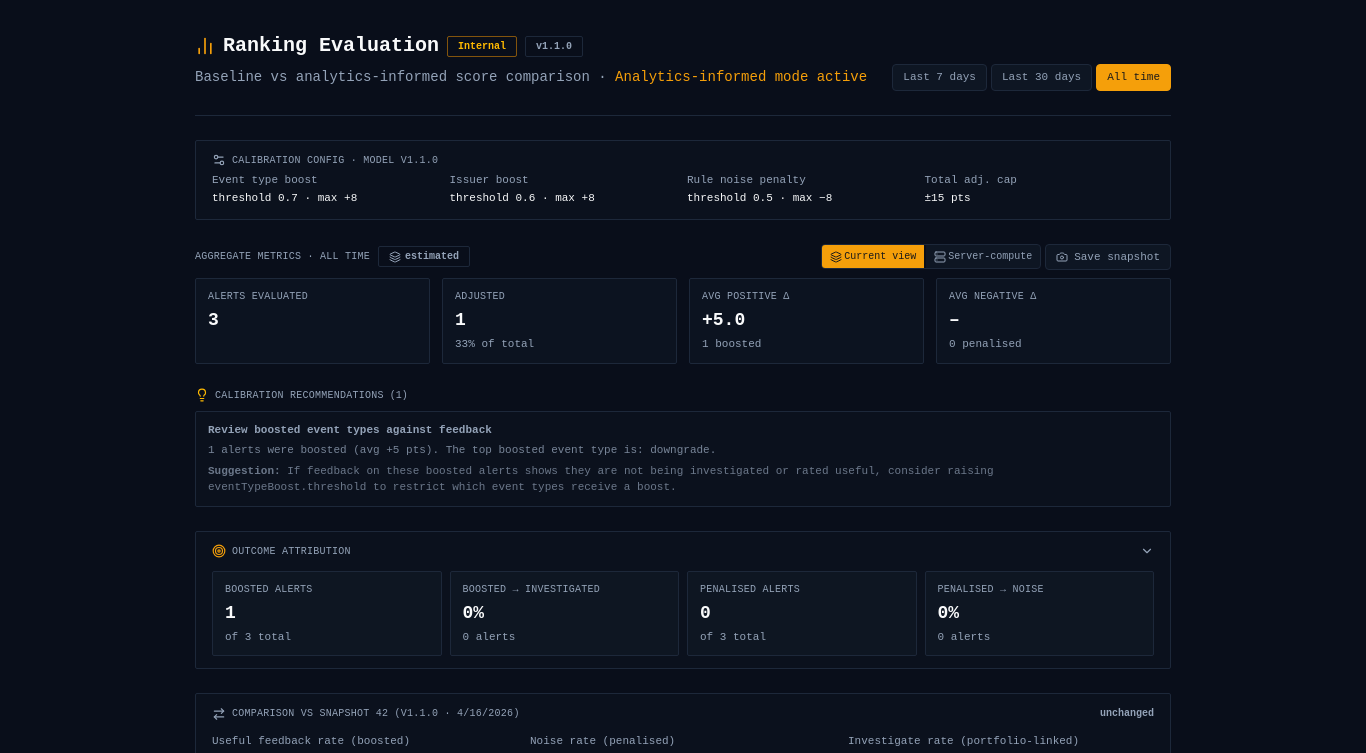
Test: RankingEvalPage – outcome attribution panel › expands attribution detail when expand button is clicked
This screenshot has width=1366, height=753.
Click the button with test id "attribution-expand-button": point(1147, 551) [1140,544,1154,558]
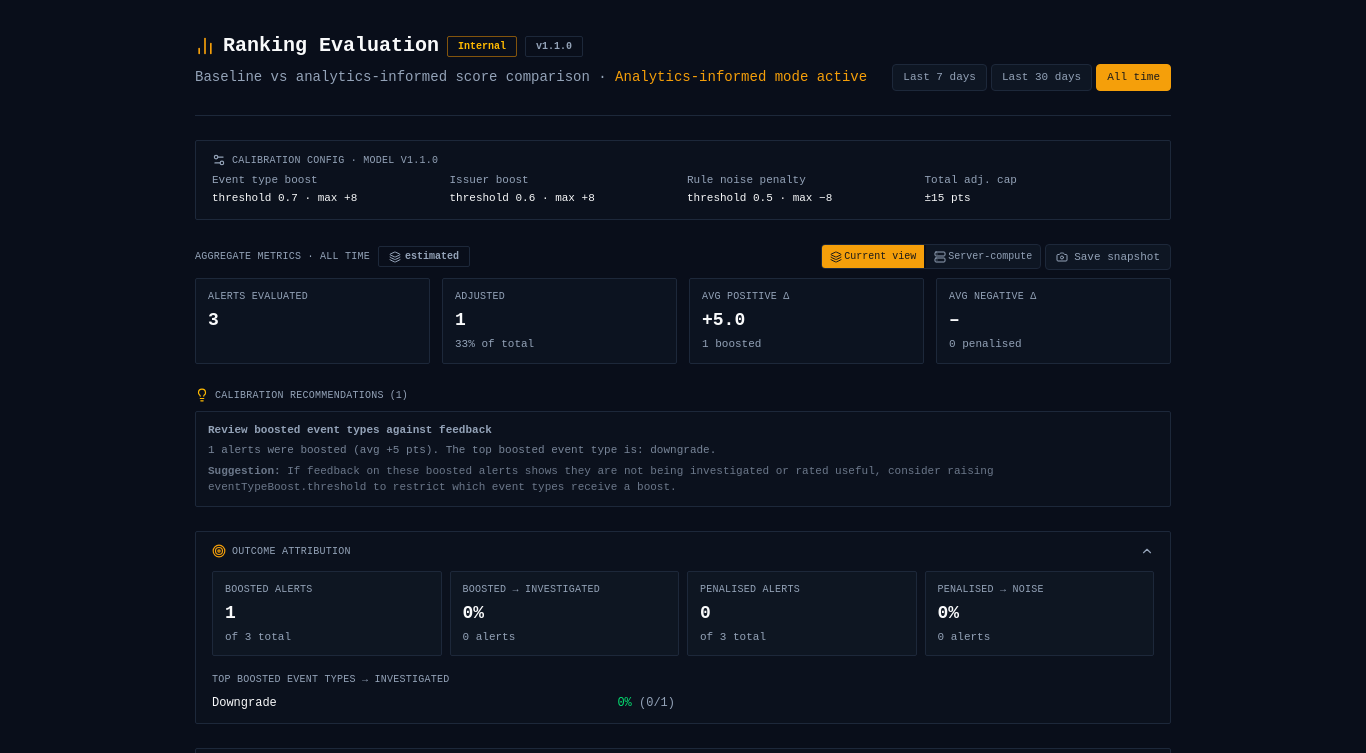
Check: the element with test id "attribution-detail" is shown, box [212,674,675,710]
